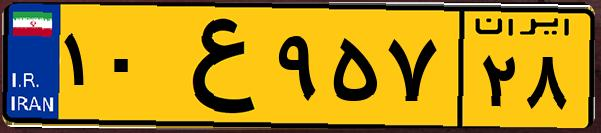0: (110, 28, 158, 98)
1: (57, 26, 110, 100)
2: (475, 38, 525, 113)
5: (330, 28, 385, 110)
7: (385, 28, 445, 110)
8: (525, 38, 570, 115)
9: (270, 28, 330, 110)
ع: (158, 12, 270, 120)
